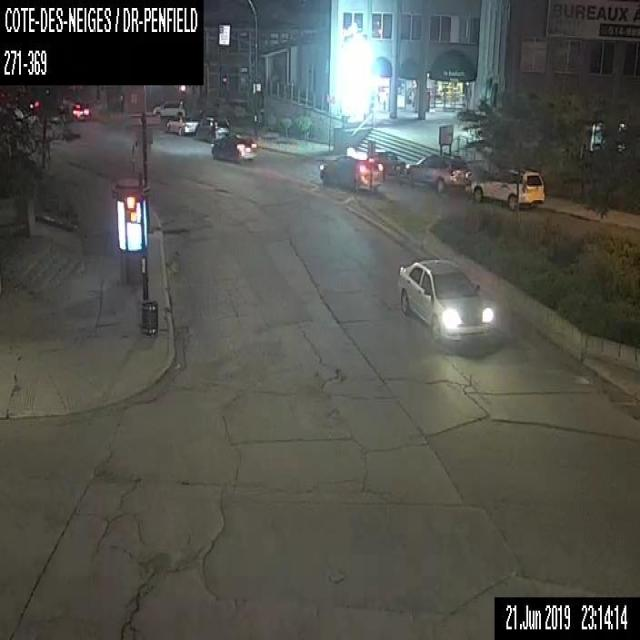vehicle: (398, 258, 498, 342), (468, 165, 545, 208), (405, 152, 470, 192), (320, 150, 384, 188), (210, 132, 256, 162), (366, 148, 405, 176), (194, 114, 230, 140), (153, 98, 185, 120), (166, 115, 198, 133), (66, 98, 90, 119)
